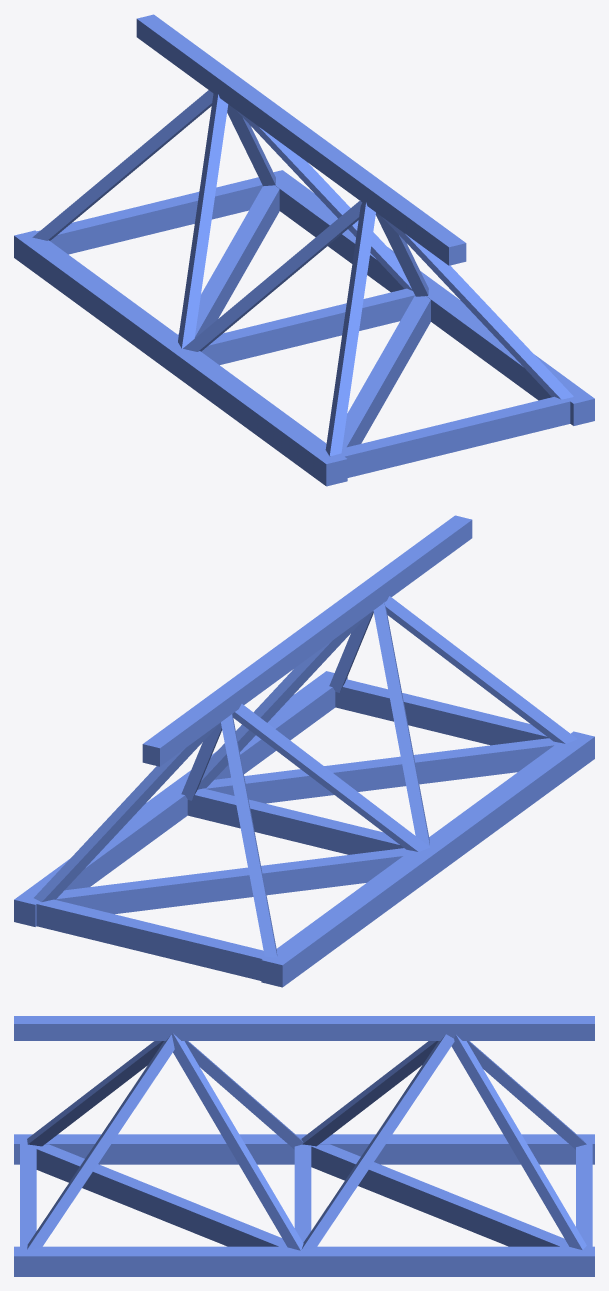
Rendered from boom.glb.
3 views of the same model, one above another, from view 1: azimuth 30°, elevation 25°; view 2: azimuth 150°, elevation 25°; view 3: azimuth 270°, elevation 25° (orthographic). The views are drawn at different scales.
Parts seen in each view (by area): view 1: boom; view 2: boom; view 3: boom.
Part boxes in pixels (<box>): boom: <box>14,14,594,486</box>; boom: <box>14,515,594,987</box>; boom: <box>14,1016,594,1276</box>.
Size of the model in its own units: 63.05 by 47 by 127.
